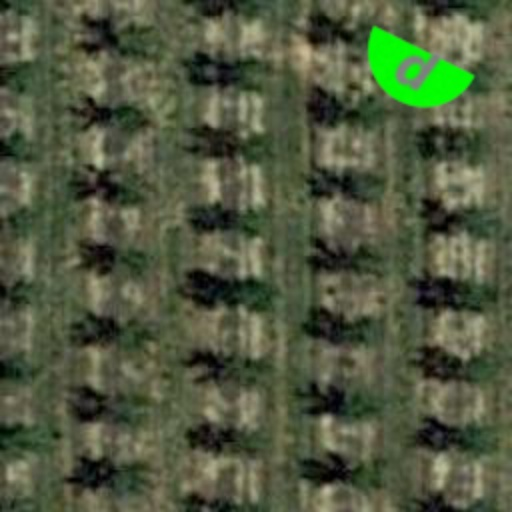semicircle: (336, 0, 488, 152)
